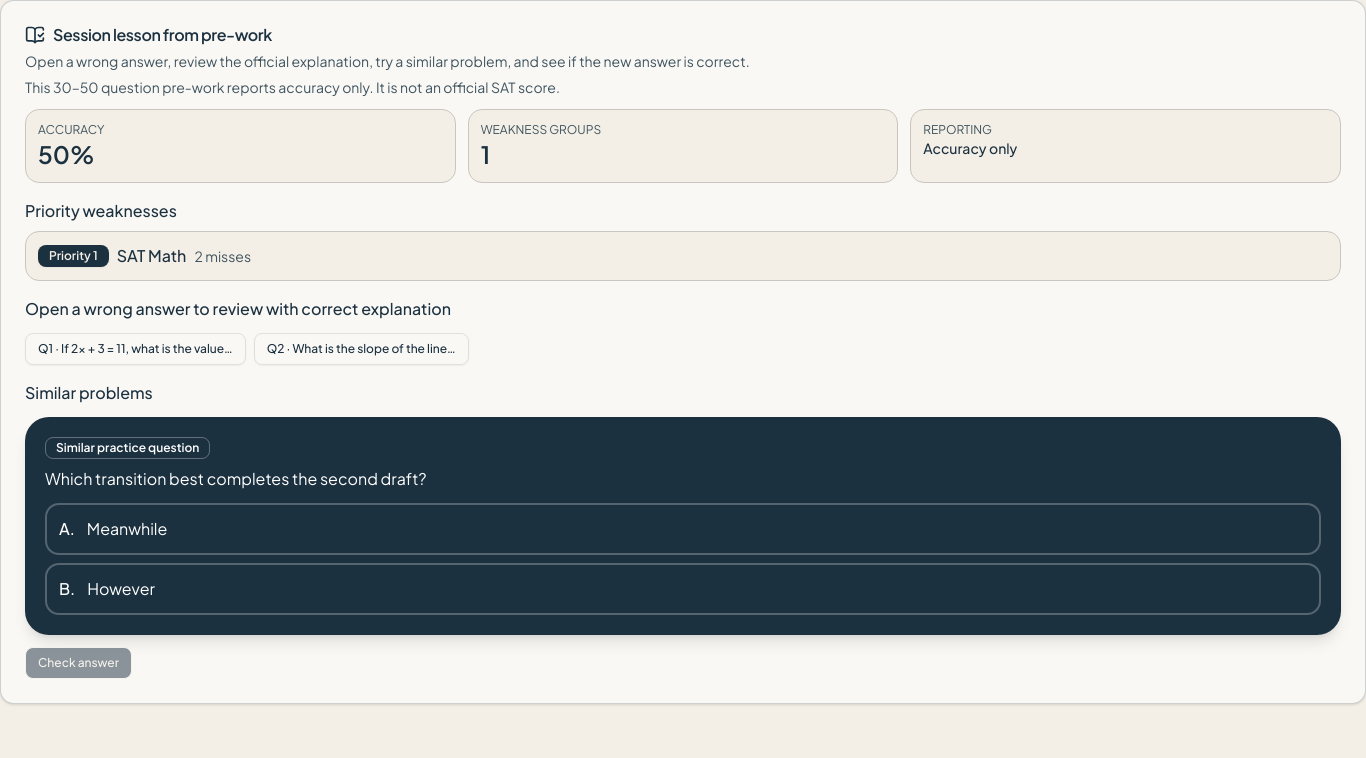
Test: session lesson dashboard › miss buttons use Q-numbers and snippets instead of identical skill chips
Check: the element with test id "weakness-group-1" shows "SAT Math", box top-left (117, 245), bottom-right (186, 266)
Check: the button with test id "miss-picker-q2" shows "Q2 ·", box top-left (254, 333), bottom-right (469, 365)
Click the button with test id "miss-picker-q1" at point(135, 349), box top-left (25, 333), bottom-right (246, 365)
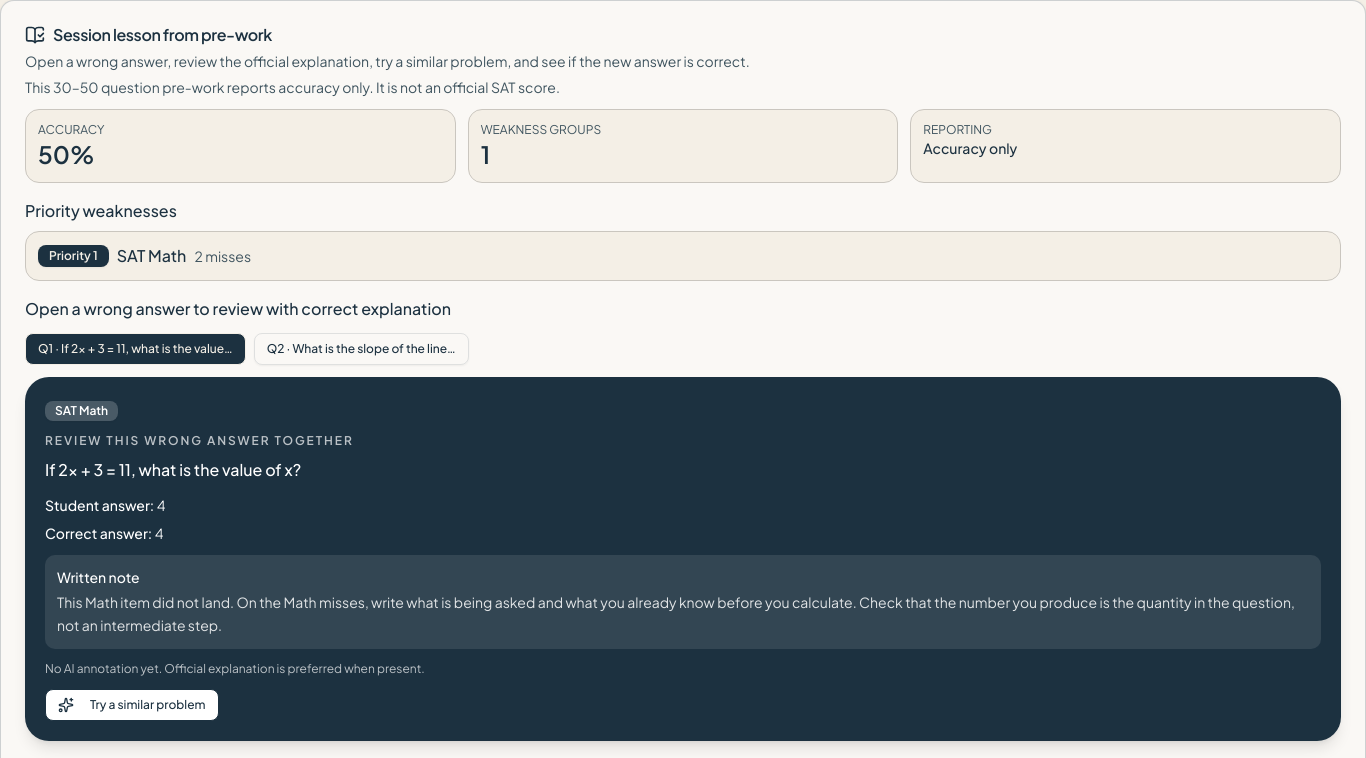
Check: the element with test id "opened-miss" shows "SAT Math", box top-left (55, 403), bottom-right (108, 418)
